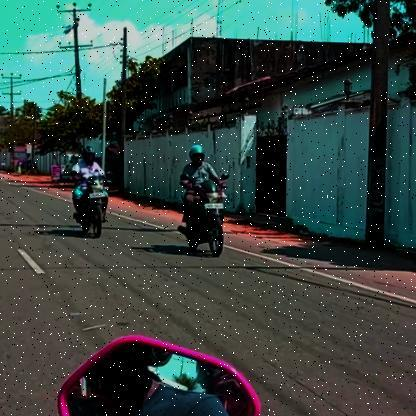motorcycle: (175, 178, 233, 258), (68, 176, 114, 242)
